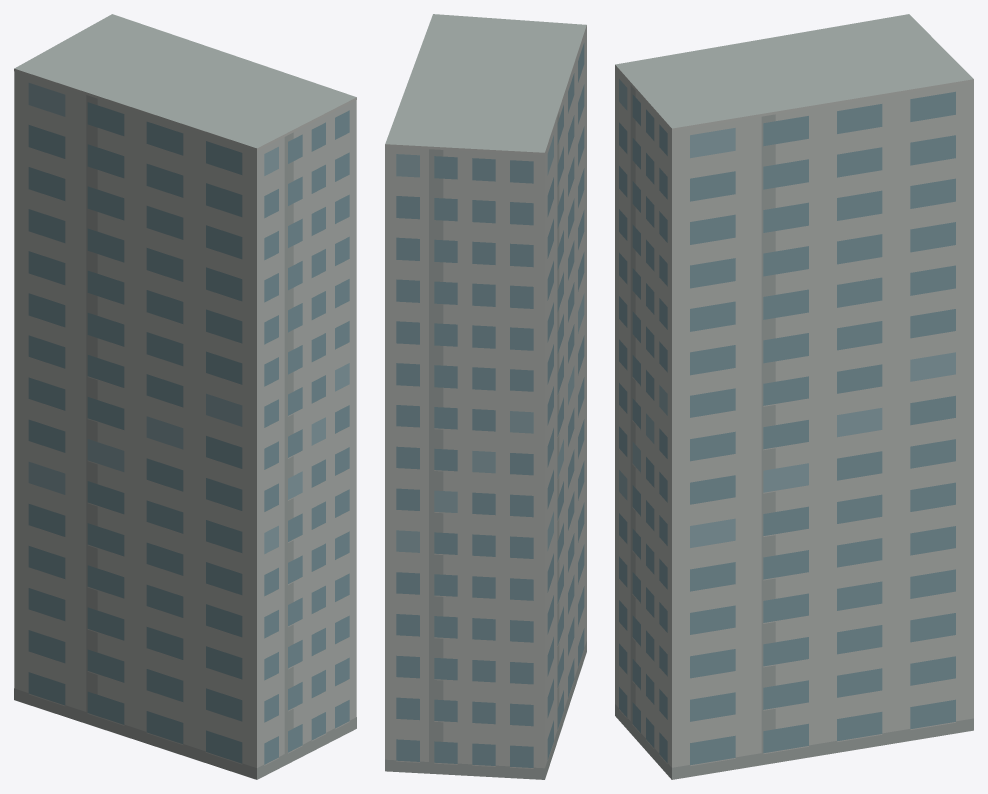
Rendered from residential-6cf3176c-31b3-4a29-ad98-6a29a0af7700.glb.
The picture shows the model from 3 angles, left to right: view 1: azimuth 30°, elevation 25°; view 2: azimuth 150°, elevation 25°; view 3: azimuth 270°, elevation 25°; orthographic projection. The views are drawn at different scales.
Parts seen in each view (by area): view 1: residential-6cf3176c-31b3-4a29-ad98-6a29a0af7700.tmp; view 2: residential-6cf3176c-31b3-4a29-ad98-6a29a0af7700.tmp; view 3: residential-6cf3176c-31b3-4a29-ad98-6a29a0af7700.tmp.
Boxes of the visible parts, x1,y1,x2,y2 form: residential-6cf3176c-31b3-4a29-ad98-6a29a0af7700.tmp: (14,14,356,779); residential-6cf3176c-31b3-4a29-ad98-6a29a0af7700.tmp: (385,14,586,779); residential-6cf3176c-31b3-4a29-ad98-6a29a0af7700.tmp: (615,14,973,779).
Bounding box in the file's own units: 21.89 × 58 × 28.97.
